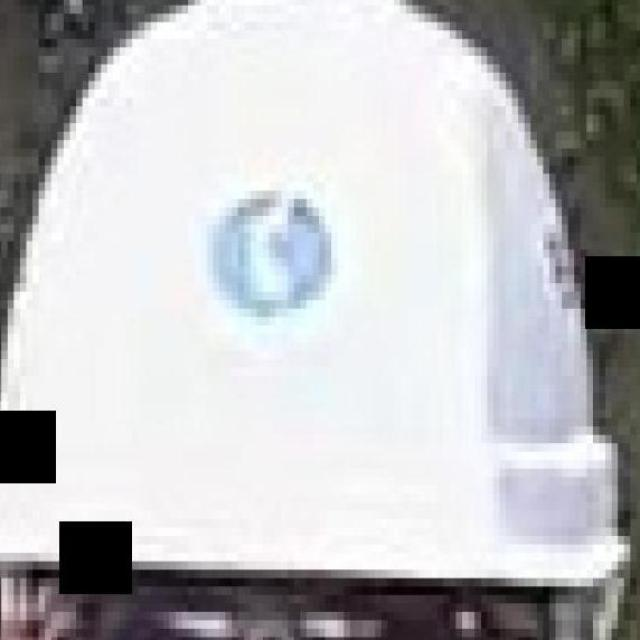white helmet: (1, 1, 625, 601)
